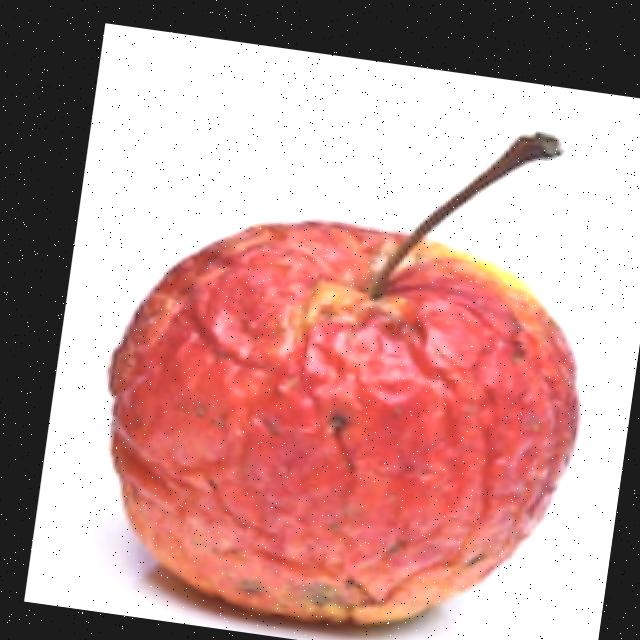overripe: (72, 180, 615, 640)
